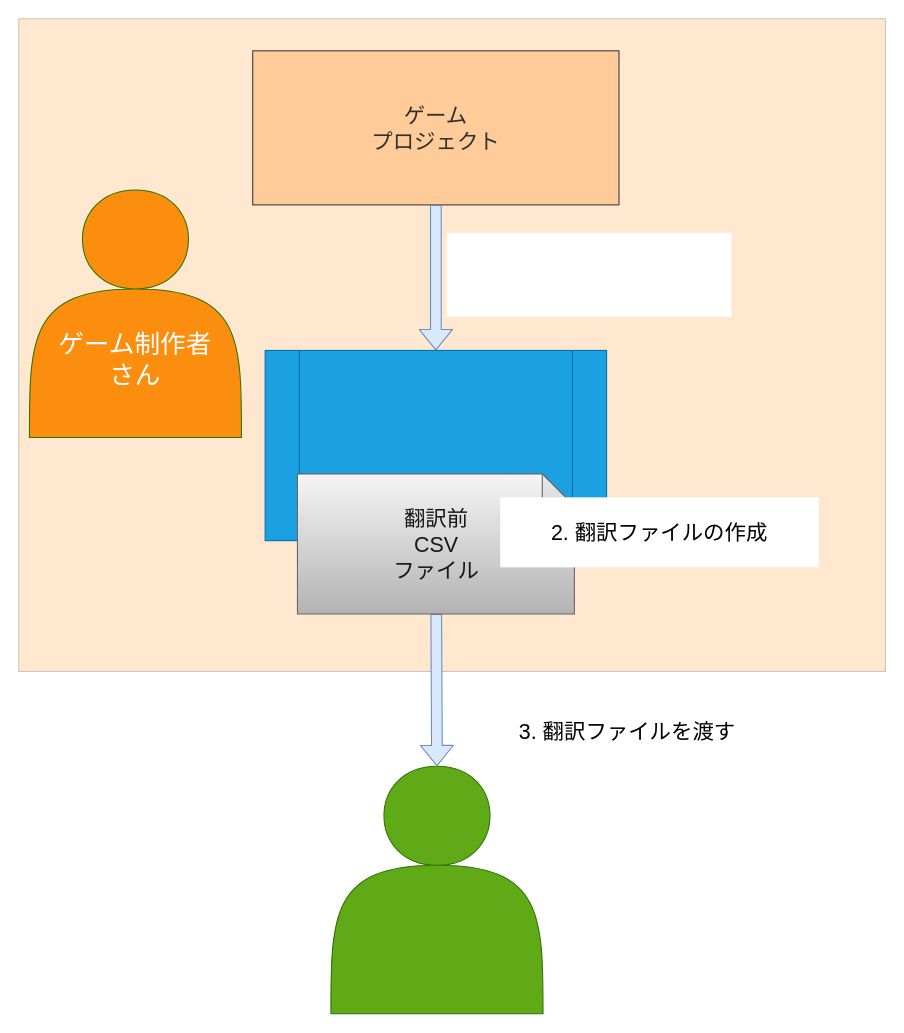
Image size: 904x1033. Some labels were removed from this diagram. The centre of each missing label's shape, as x and y in pixels:
"1. テキスト抽出" goes at (x=588, y=274).
"Langscore" goes at (x=435, y=445).
"翻訳者さん" goes at (x=436, y=889).
